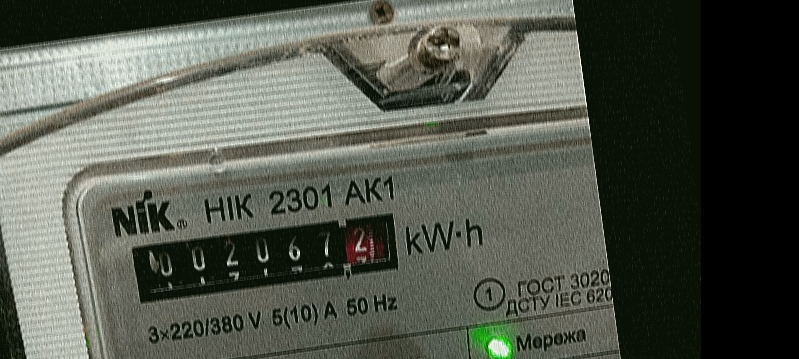0: (250, 233, 272, 263), (155, 248, 176, 279), (188, 242, 209, 273)
2: (349, 223, 371, 254), (221, 237, 241, 268)
6: (284, 232, 305, 263)
7: (316, 228, 336, 260)
screen: (116, 198, 417, 318)
